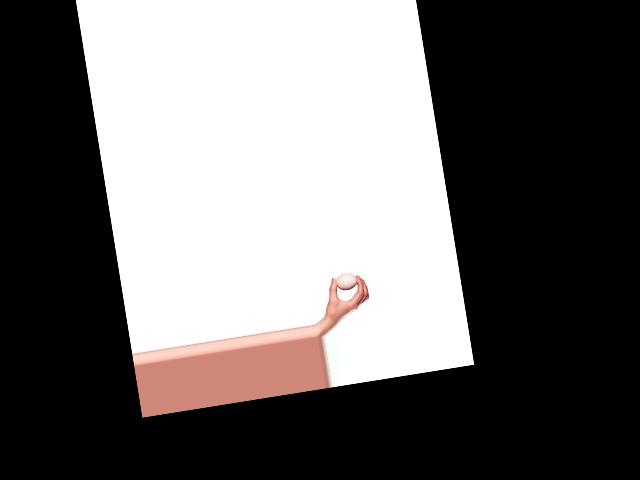egg: (334, 272, 358, 291)
